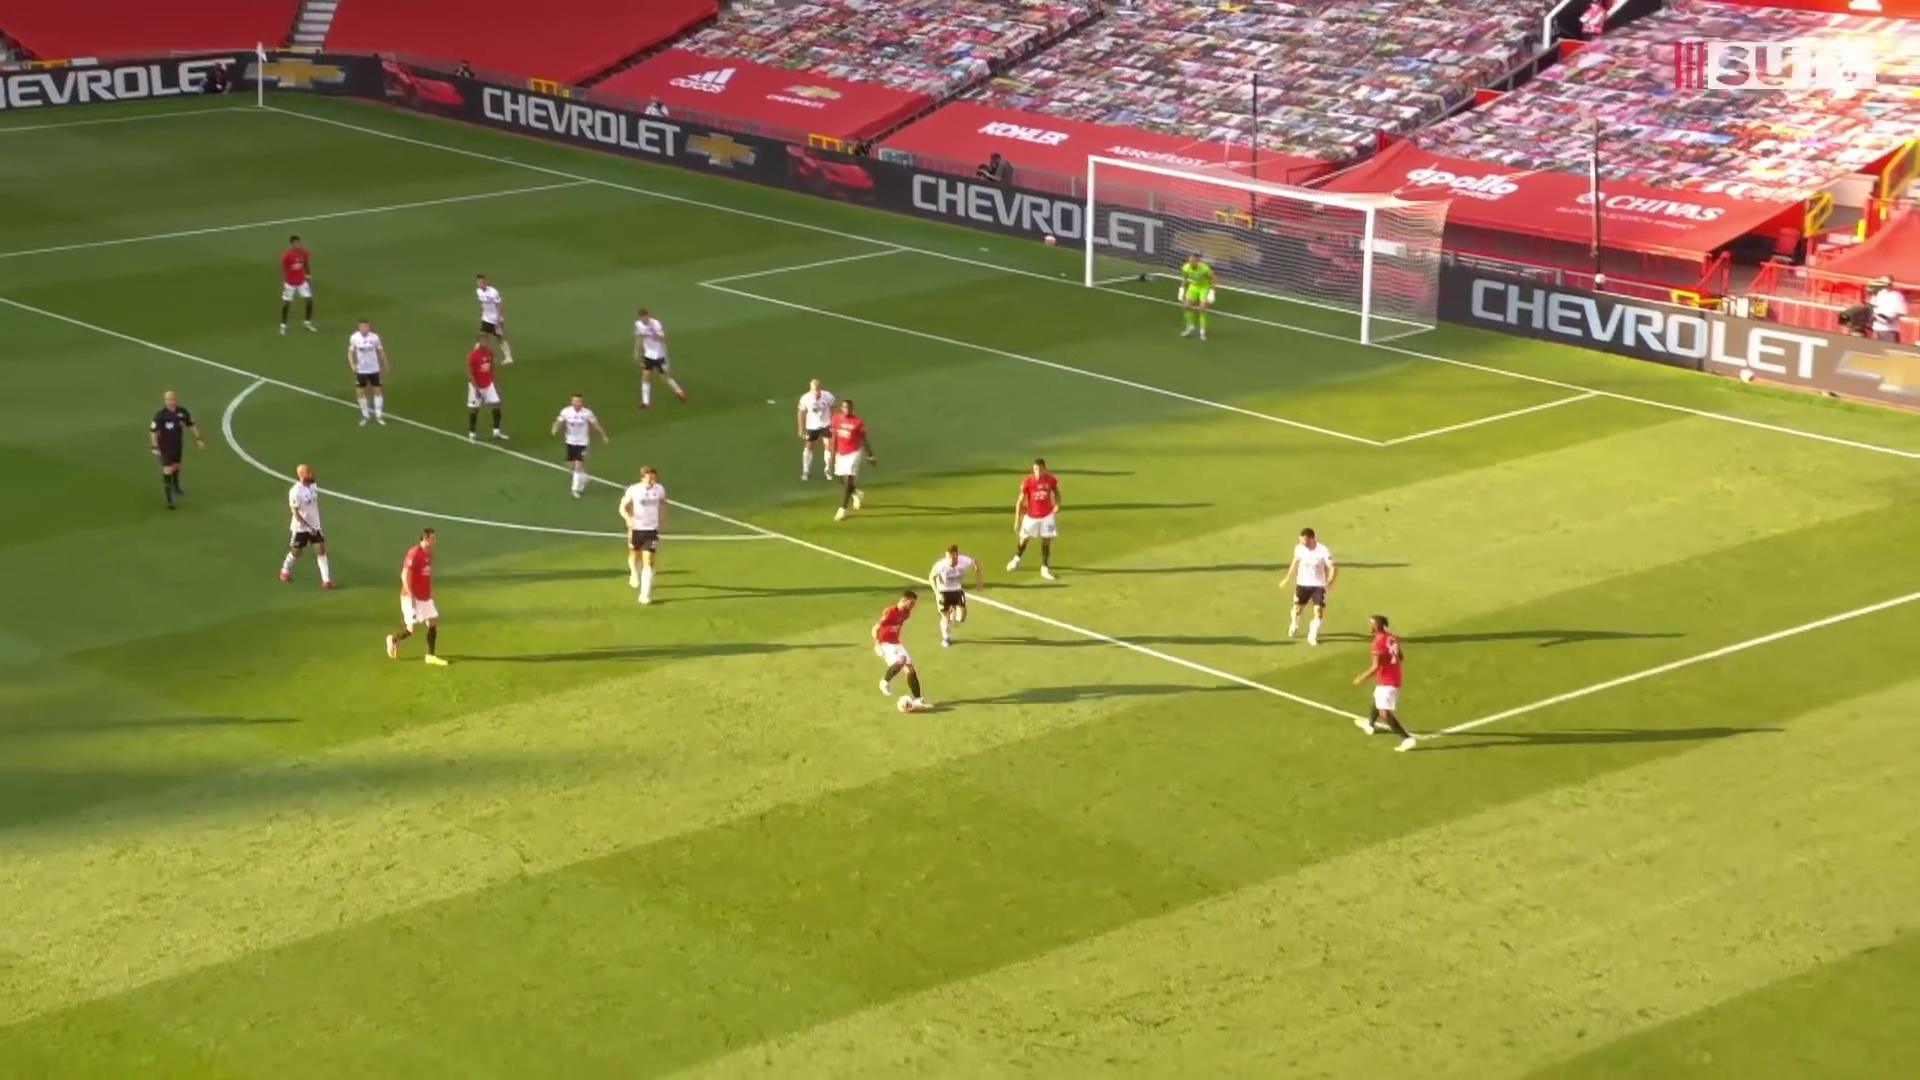ball: (893, 693, 918, 715)
goalkeeper: (1174, 252, 1220, 346)
player: (383, 523, 454, 670), (1350, 614, 1420, 756), (274, 459, 340, 586), (621, 461, 678, 608), (872, 589, 933, 720), (1008, 457, 1068, 583), (1283, 526, 1341, 651), (551, 388, 614, 503), (629, 305, 692, 413), (826, 397, 879, 523), (931, 544, 989, 651), (465, 331, 518, 445), (794, 375, 847, 486), (270, 234, 322, 340), (350, 317, 395, 431), (473, 271, 520, 368)
referee: (149, 388, 208, 513)
